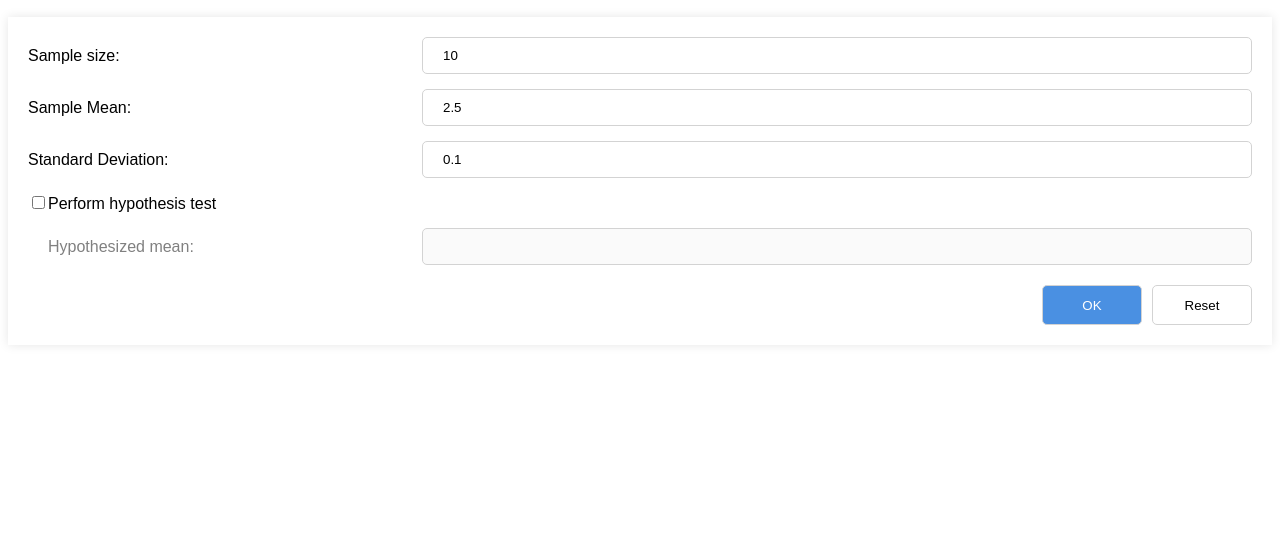
Test: SampleForm Component › displays submitted values in a table and clears them on reset
// Change a value
Replace the text in the number field with test id "sample_size" with "15" at (837, 56), box [422,37,1252,74]
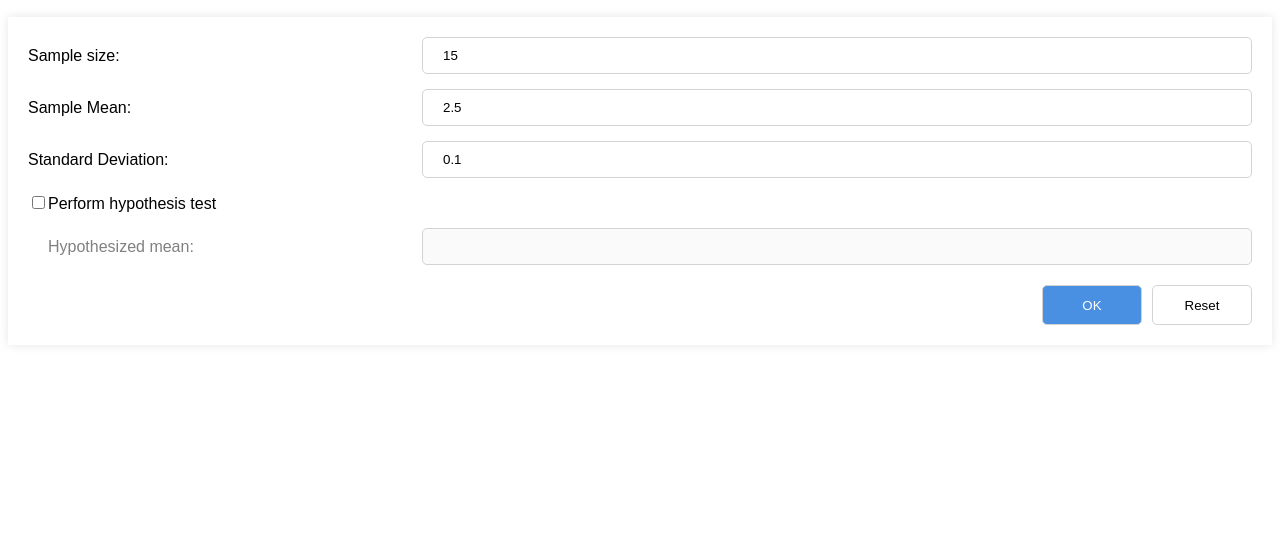
// Submit the form
Click the button "OK".
click(1092, 305)  # box [1042,285,1142,325]
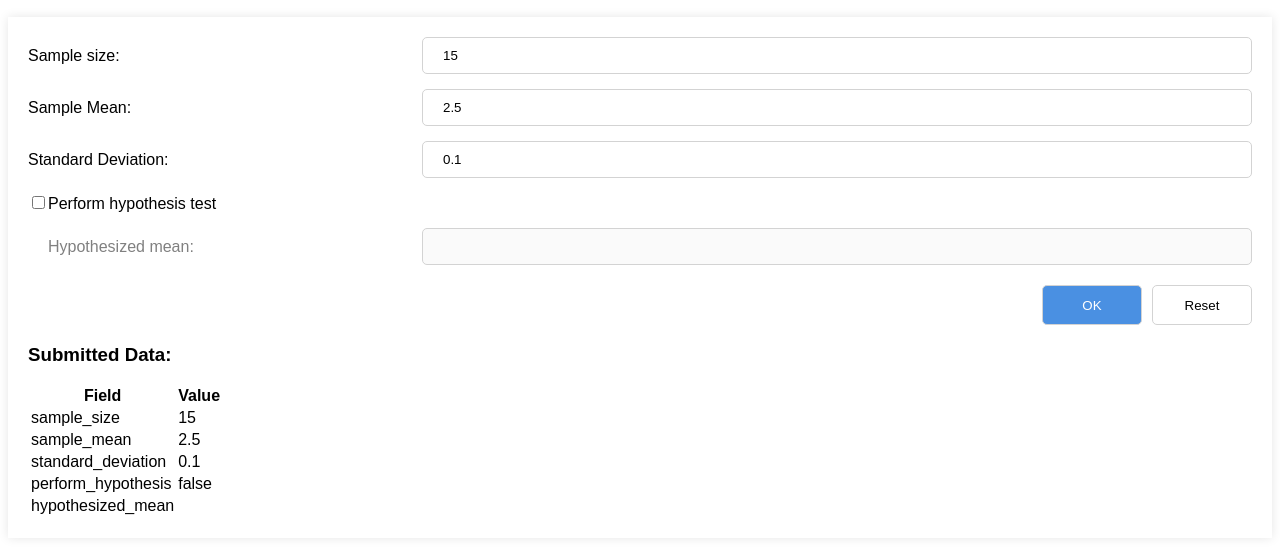
// Click the reset button
Click the button "Reset".
click(1202, 305)  # box [1152,285,1252,325]
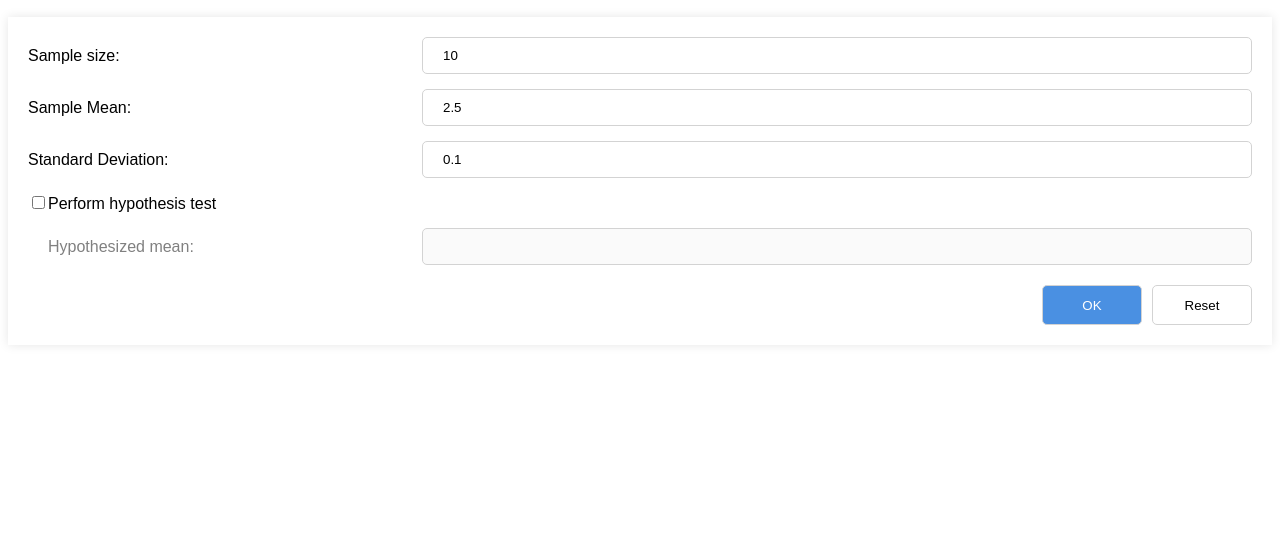
Now the number field with test id "sample_size" holds "10", box [422,37,1252,74]
